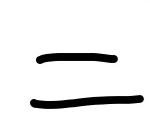eqv: (25, 48, 146, 109)
